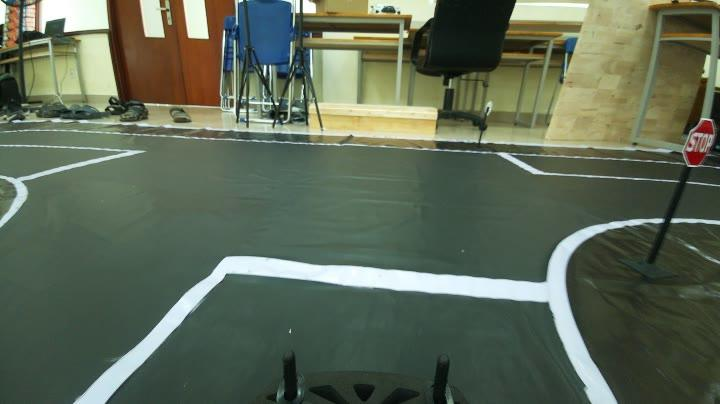stop: (677, 110, 720, 168)
